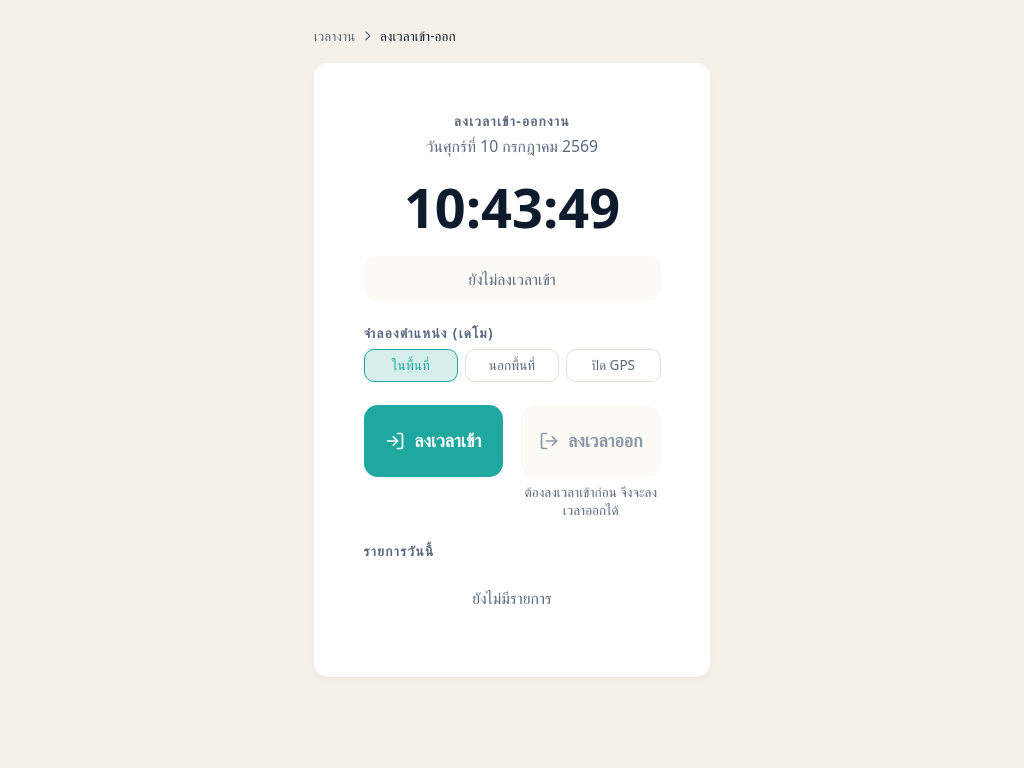
it: STA-251 dual buttons — enable/disable matrix on the page › both buttons lock while the result popup is open
Click the button with test id "clock-in-button" at (433, 441), box [364,405,503,477]
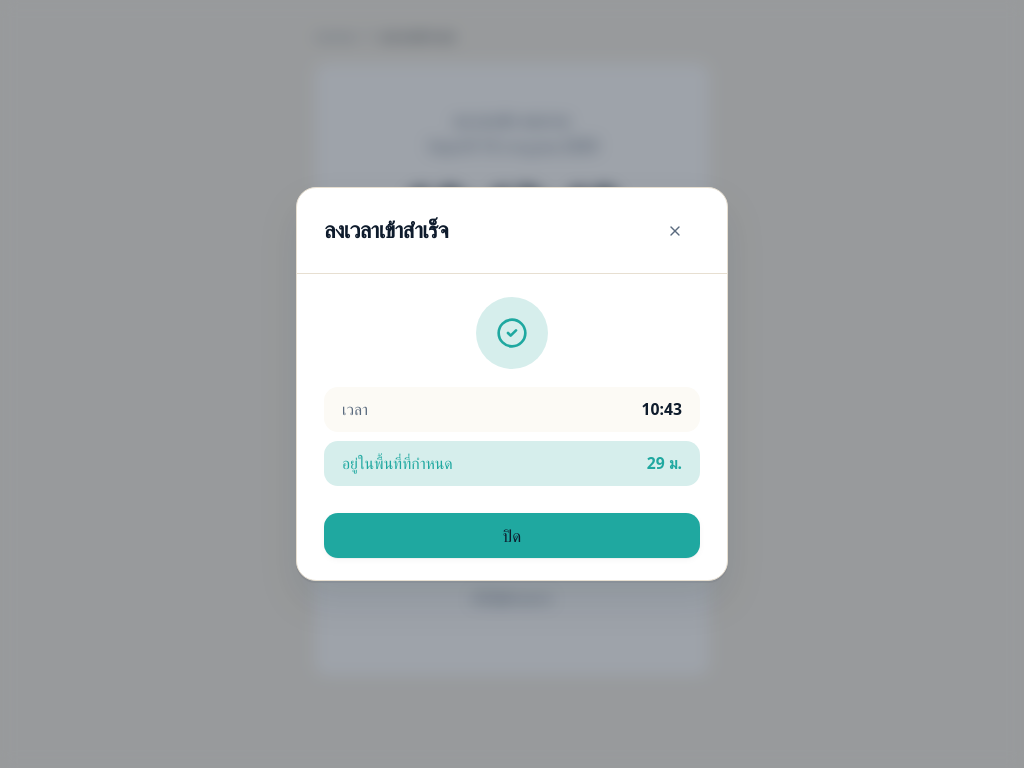
Expected: the button with test id "clock-out-button" is disabled, [521,405,660,477]
Expected: the button with test id "clock-in-button" is disabled, [364,405,503,477]
